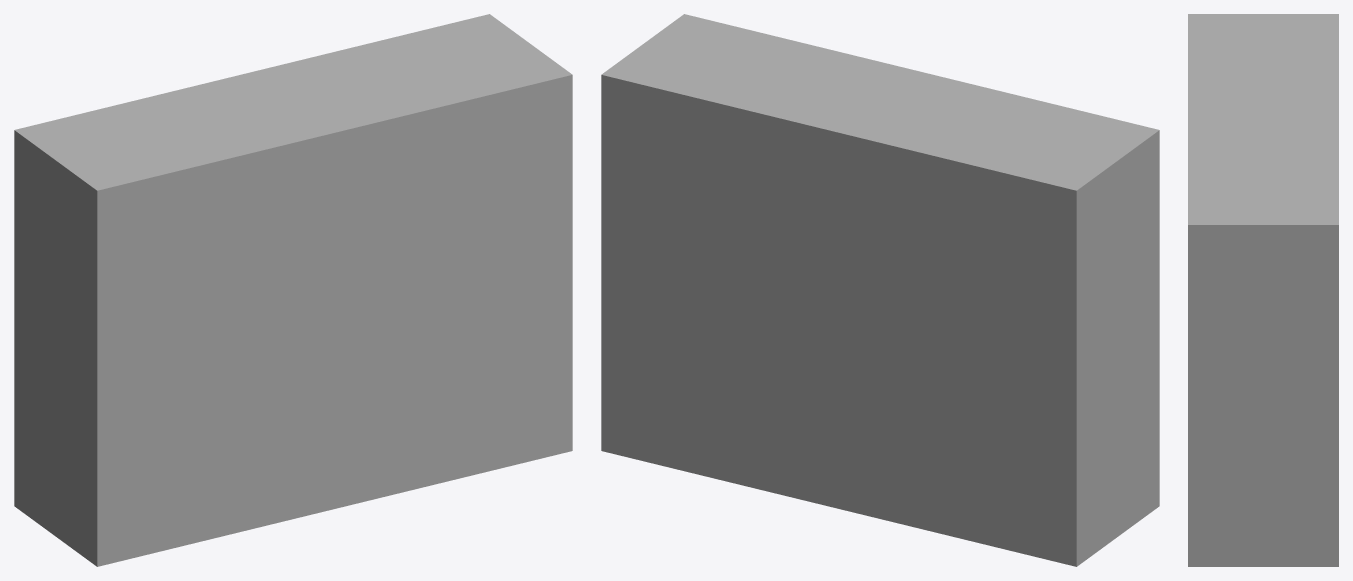
The model's file is Toilet1_C1_05.fbx.
3 renders of one model, left to right at view 1: azimuth 30°, elevation 25°; view 2: azimuth 150°, elevation 25°; view 3: azimuth 270°, elevation 25°, orthographic. The views are drawn at different scales.
Parts seen in each view (by area): view 1: Toilet1_C1_05; view 2: Toilet1_C1_05; view 3: Toilet1_C1_05.
Boxes of the visible parts, box(x1,y1,x2,y2) form: Toilet1_C1_05: box(14, 14, 572, 566); Toilet1_C1_05: box(601, 14, 1159, 566); Toilet1_C1_05: box(1188, 14, 1338, 566).
Bounding box in the file's own units: 6.61 × 5 × 2.
